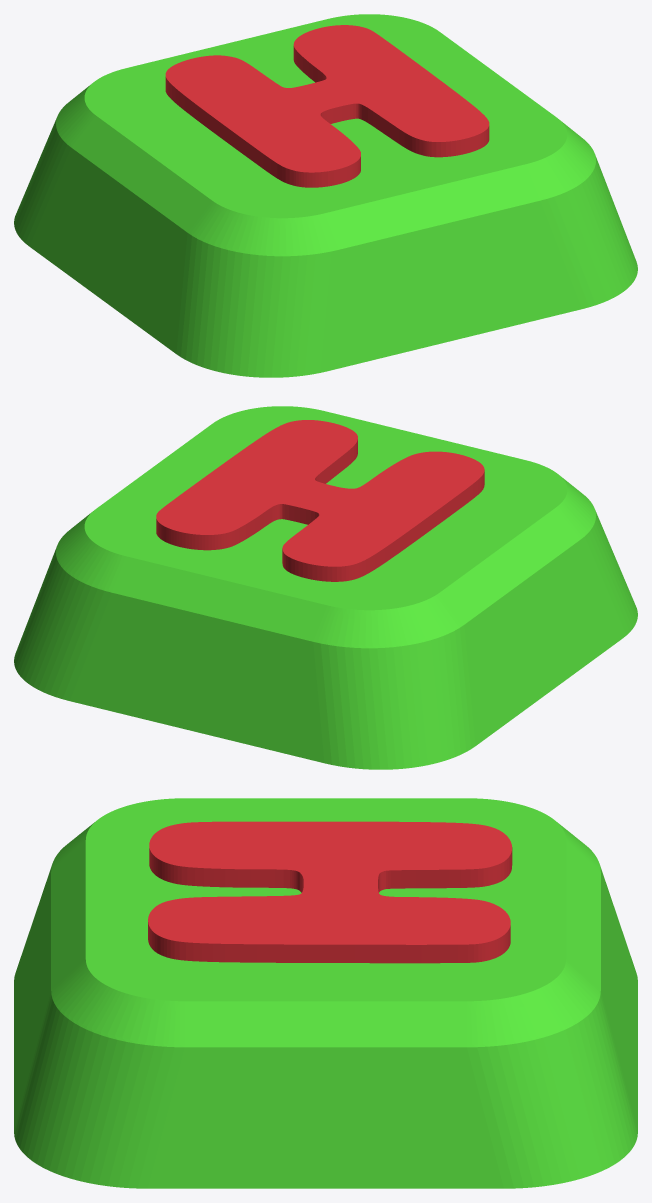
The picture shows the model from 3 angles, top to bottom: view 1: azimuth 30°, elevation 25°; view 2: azimuth 150°, elevation 25°; view 3: azimuth 270°, elevation 25°; orthographic projection. The views are drawn at different scales.
Visible parts, largest first — view 1: CAPS_H, FONT_H; view 2: CAPS_H, FONT_H; view 3: CAPS_H, FONT_H.
Part boxes in pixels (x1,y1,x2,y2): CAPS_H: [14, 14, 637, 377]; FONT_H: [165, 25, 489, 187]; CAPS_H: [14, 406, 637, 769]; FONT_H: [156, 420, 484, 581]; CAPS_H: [14, 798, 637, 1188]; FONT_H: [148, 821, 512, 963].
Bounding box in the file's own units: 18 × 5.59 × 18.
